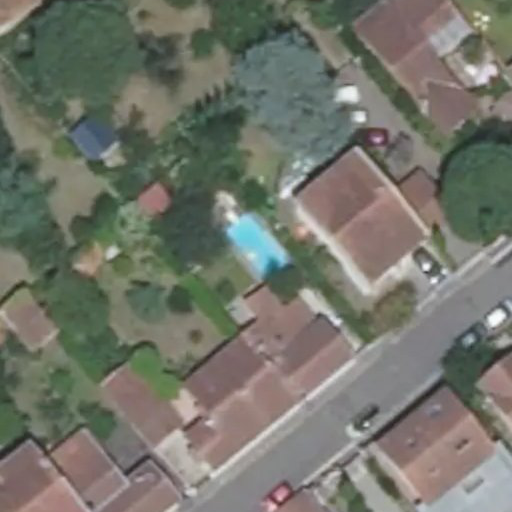pool: (224, 225, 287, 258)
